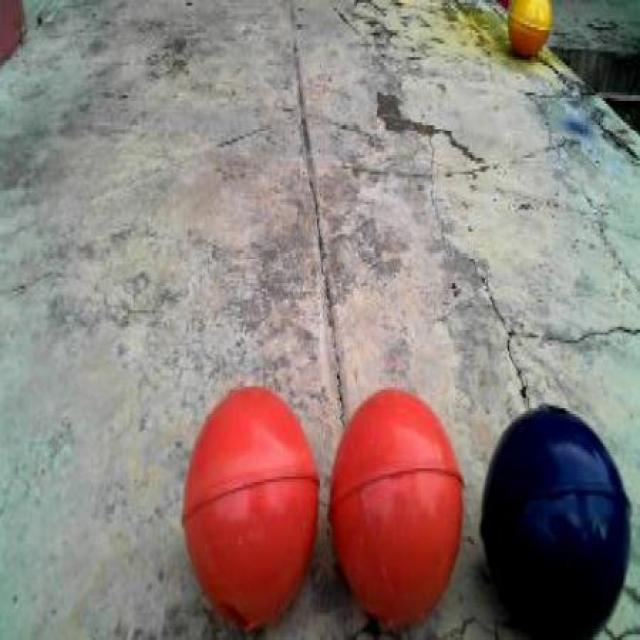buoy: (474, 389, 637, 635), (178, 373, 324, 635), (325, 377, 469, 636)
